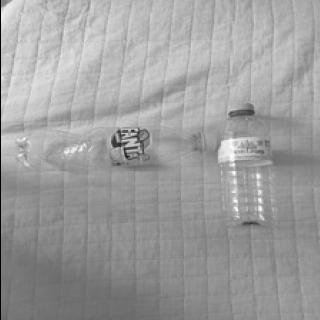plastic_bottles: (13, 120, 217, 172), (217, 98, 276, 232)
